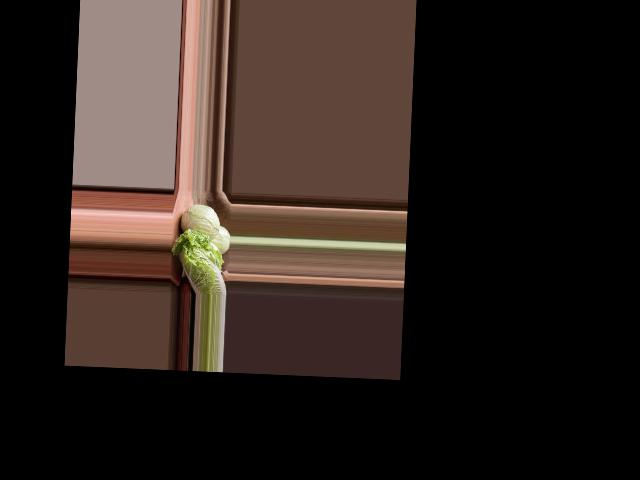lettuce: (168, 228, 226, 294)
